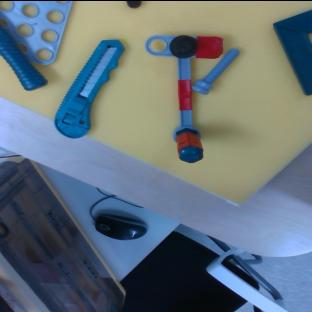pass: (143, 34, 223, 162)
